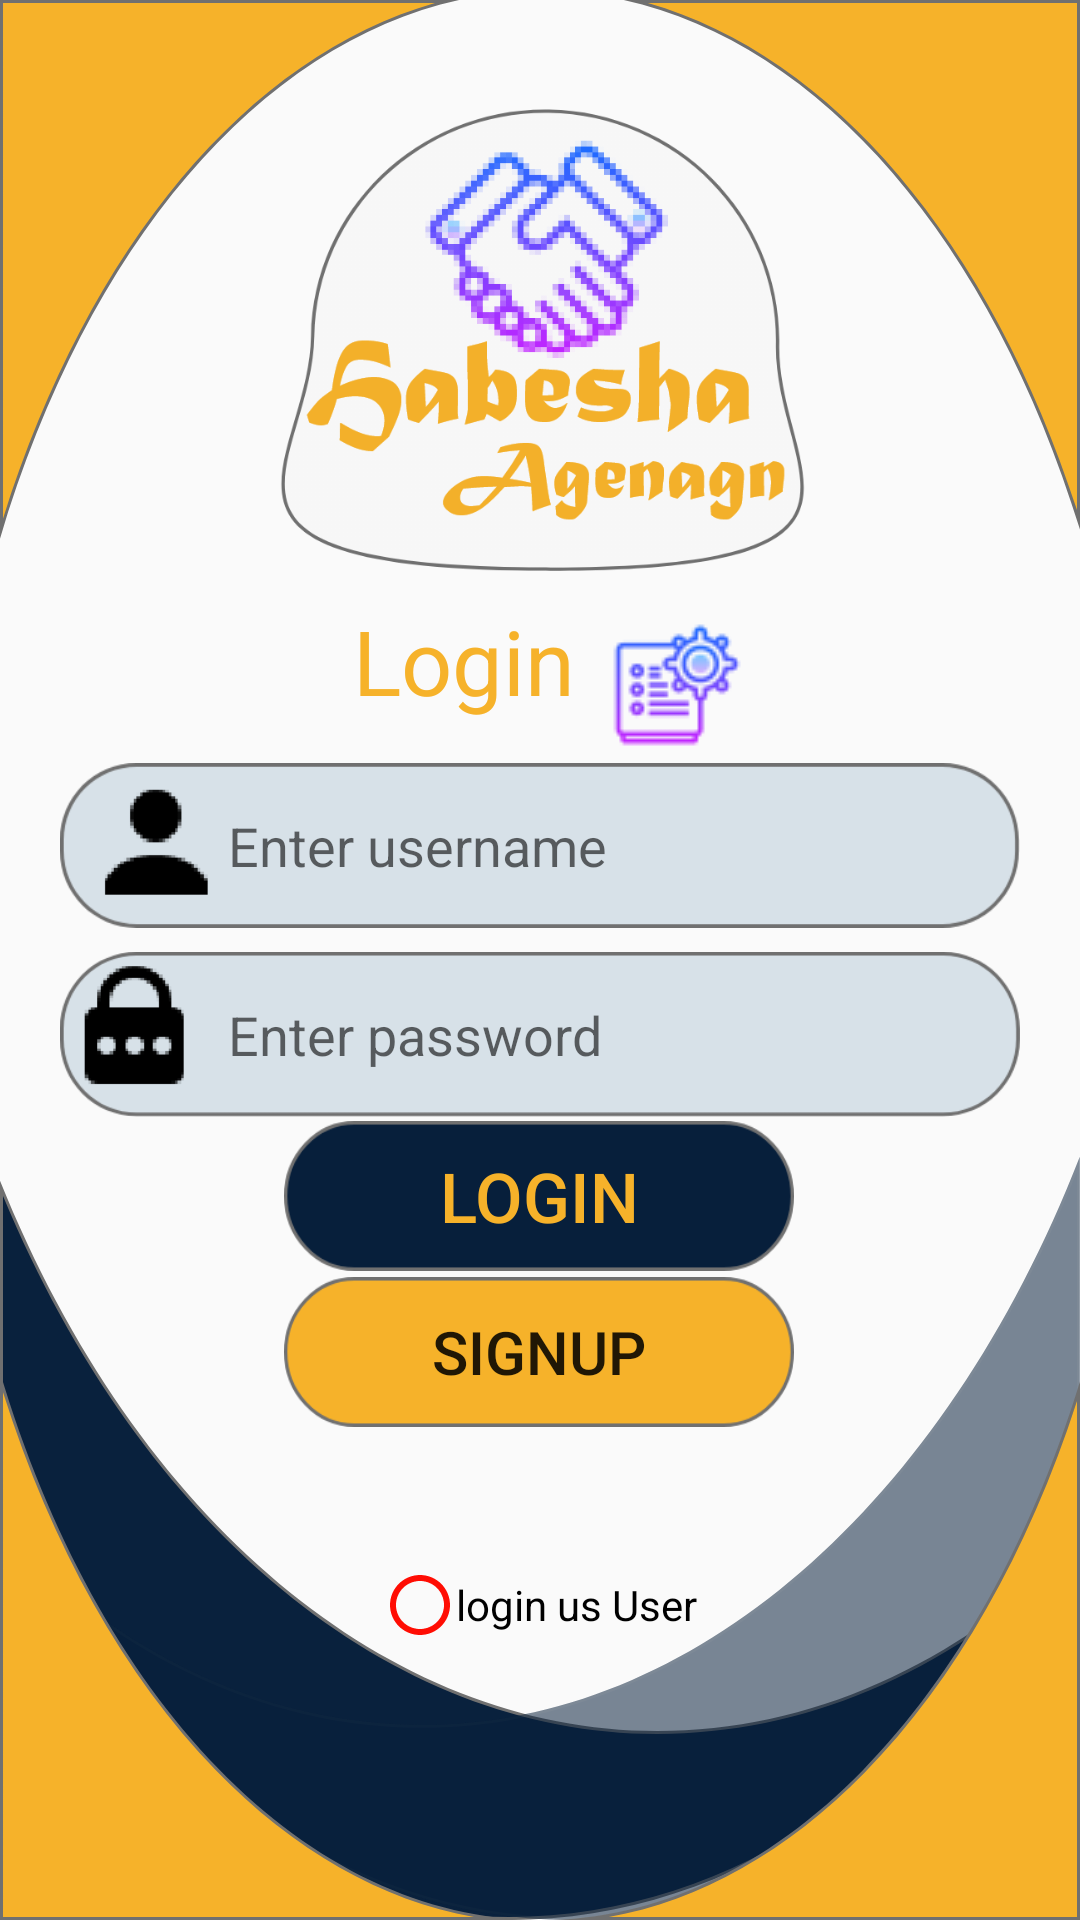

Icons on this 1080*1920 Android screen, each with the point to tap as (x,y):
service: (676,685)
